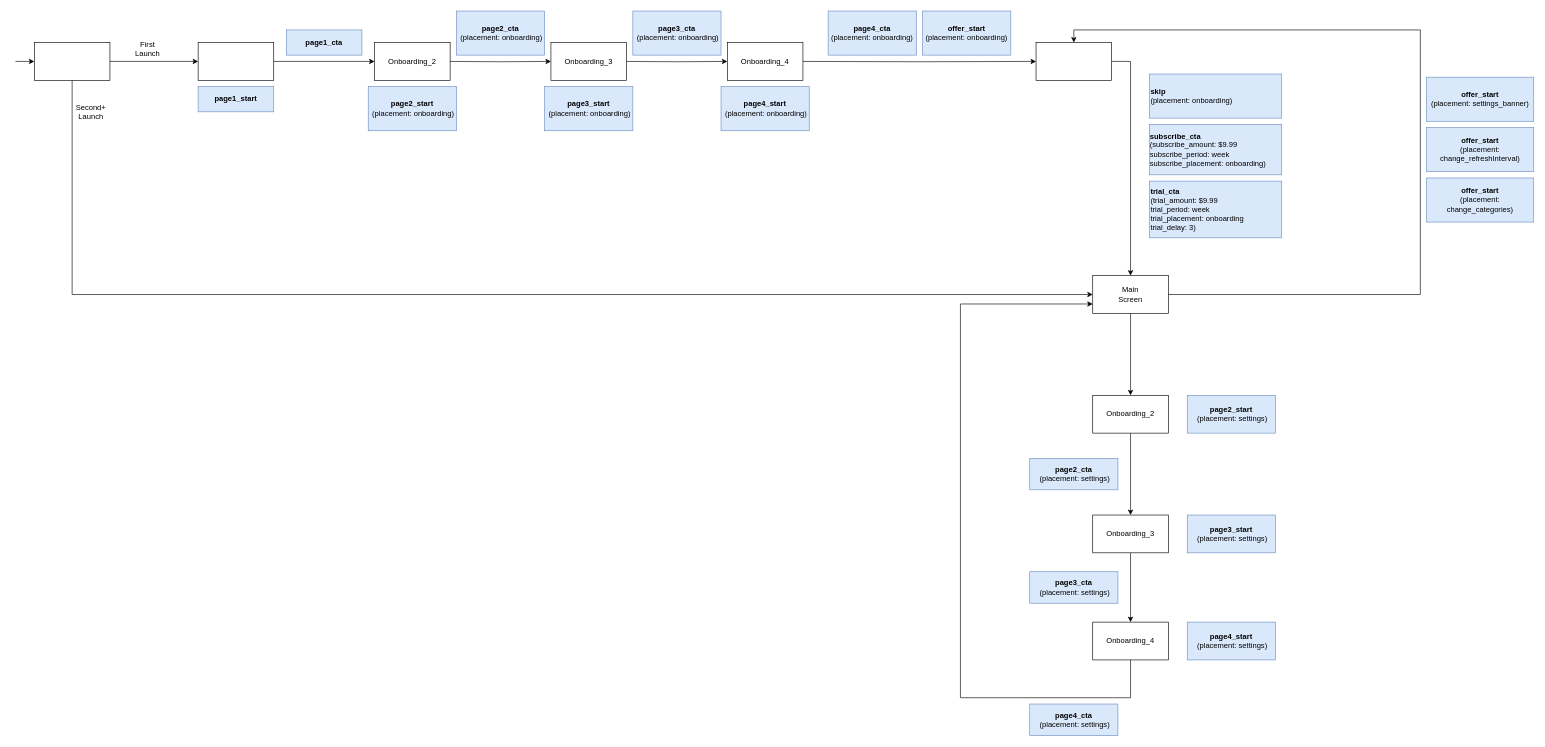
This 1545x747 diagram has some shape labels left out. Each missing label, with the box of its shape:
Onboarding_1: (198, 42, 274, 80)
Paywall: (1035, 42, 1112, 80)
Splash screen: (34, 42, 110, 80)
